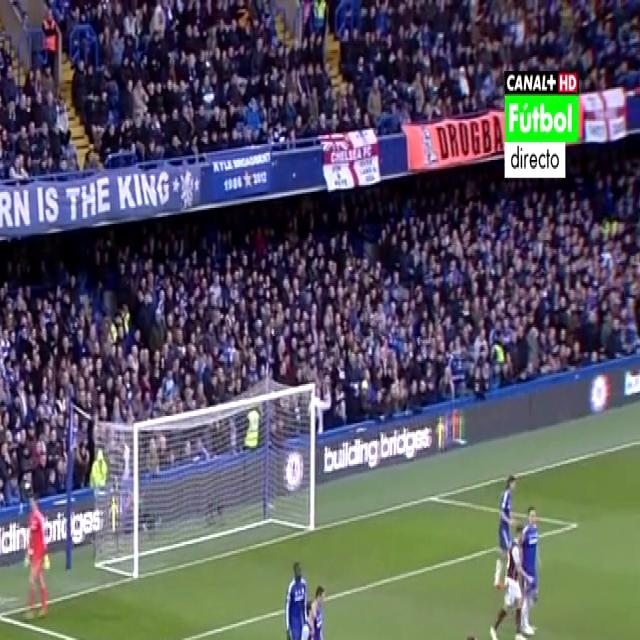goalkeeper: (22, 493, 56, 624)
soccer-player: (511, 496, 551, 640), (490, 522, 527, 640), (491, 459, 522, 591), (277, 546, 311, 640), (297, 574, 336, 640), (446, 624, 495, 640)
